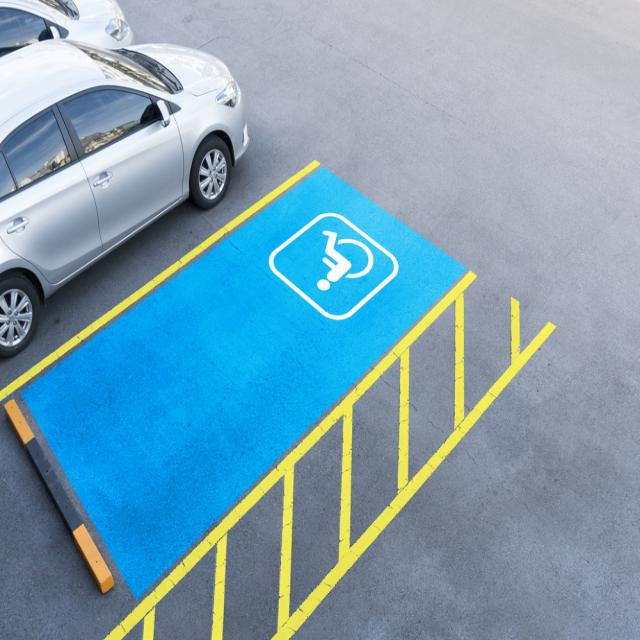discapacitados: (16, 163, 472, 610)
ocupado: (0, 22, 274, 366), (2, 0, 138, 47)
